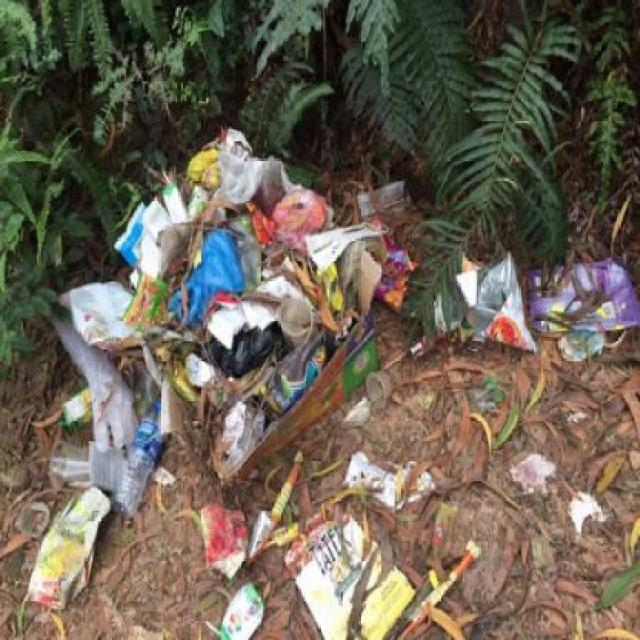plastic bag: (20, 95, 400, 554), (274, 504, 415, 638), (20, 472, 118, 608), (523, 242, 639, 351), (448, 240, 530, 366), (214, 127, 318, 210)
